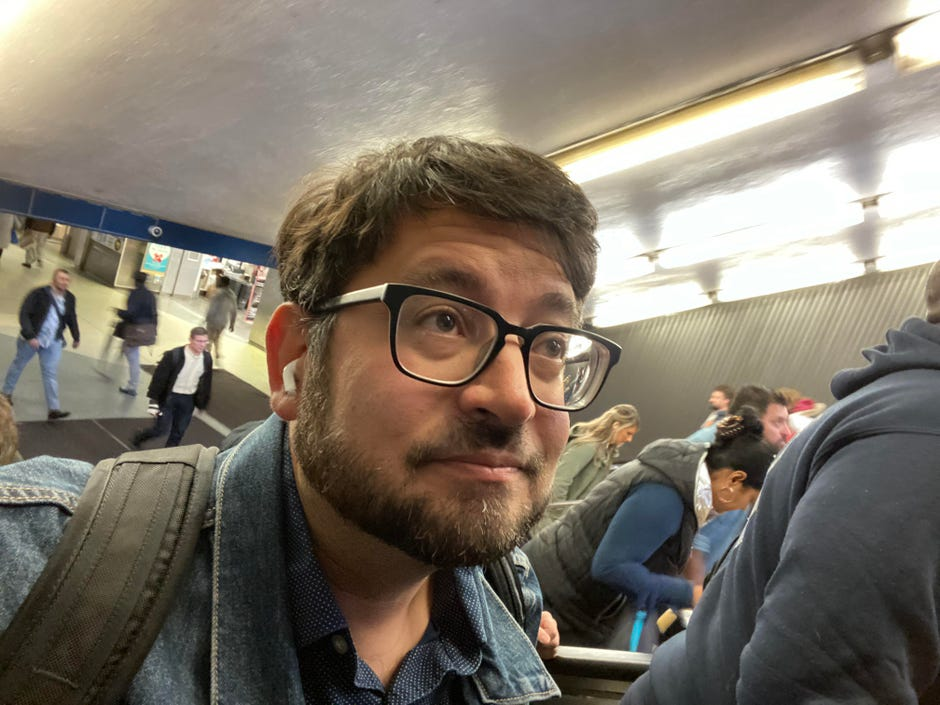earphone: (266, 303, 313, 420)
